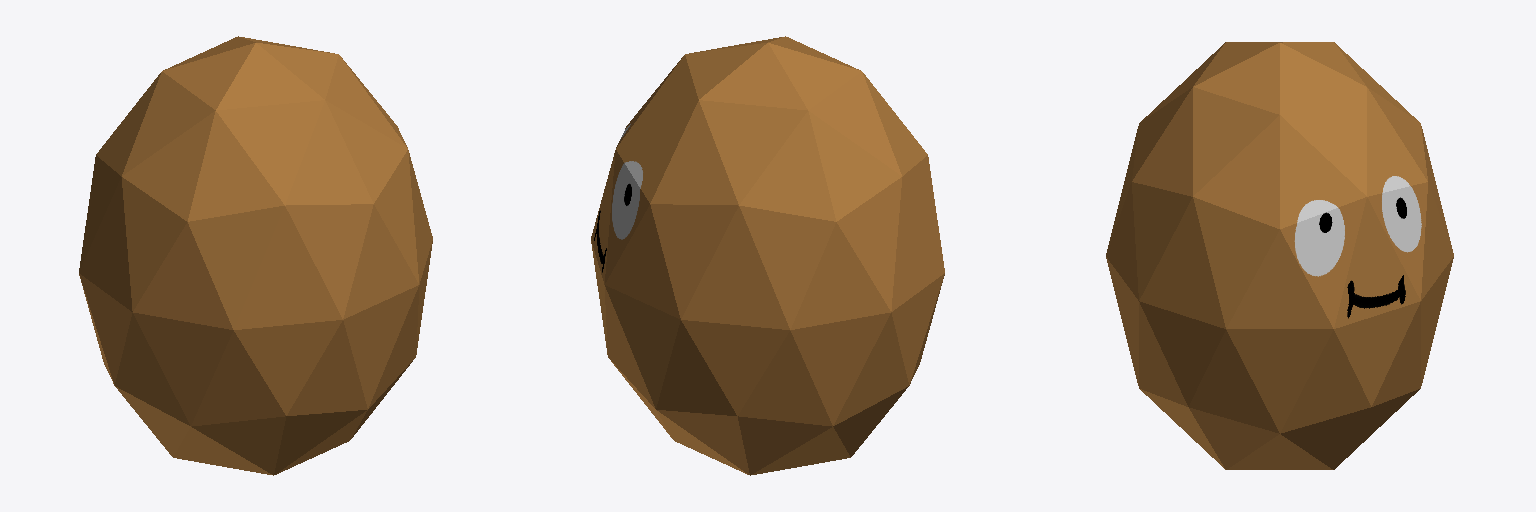
3 renders of one model, left to right at view 1: azimuth 30°, elevation 25°; view 2: azimuth 150°, elevation 25°; view 3: azimuth 270°, elevation 25°, orthographic.
Visible parts, largest first — view 1: Icosphere; view 2: Icosphere; view 3: Icosphere.
Part boxes in pixels (left/top/right/bottom): Icosphere: left=79, top=36, right=432, bottom=475; Icosphere: left=591, top=36, right=944, bottom=475; Icosphere: left=1106, top=42, right=1453, bottom=469.
Size of the model in its own units: 2.84 by 3.85 by 2.85.
Materials: 1 (1 with a texture image).